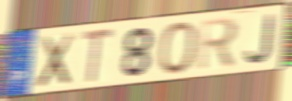8: (121, 26, 153, 79)
J: (244, 13, 275, 65)
O: (157, 20, 199, 77)
R: (196, 16, 240, 74)
T: (81, 26, 116, 87)
X: (34, 31, 77, 91)
